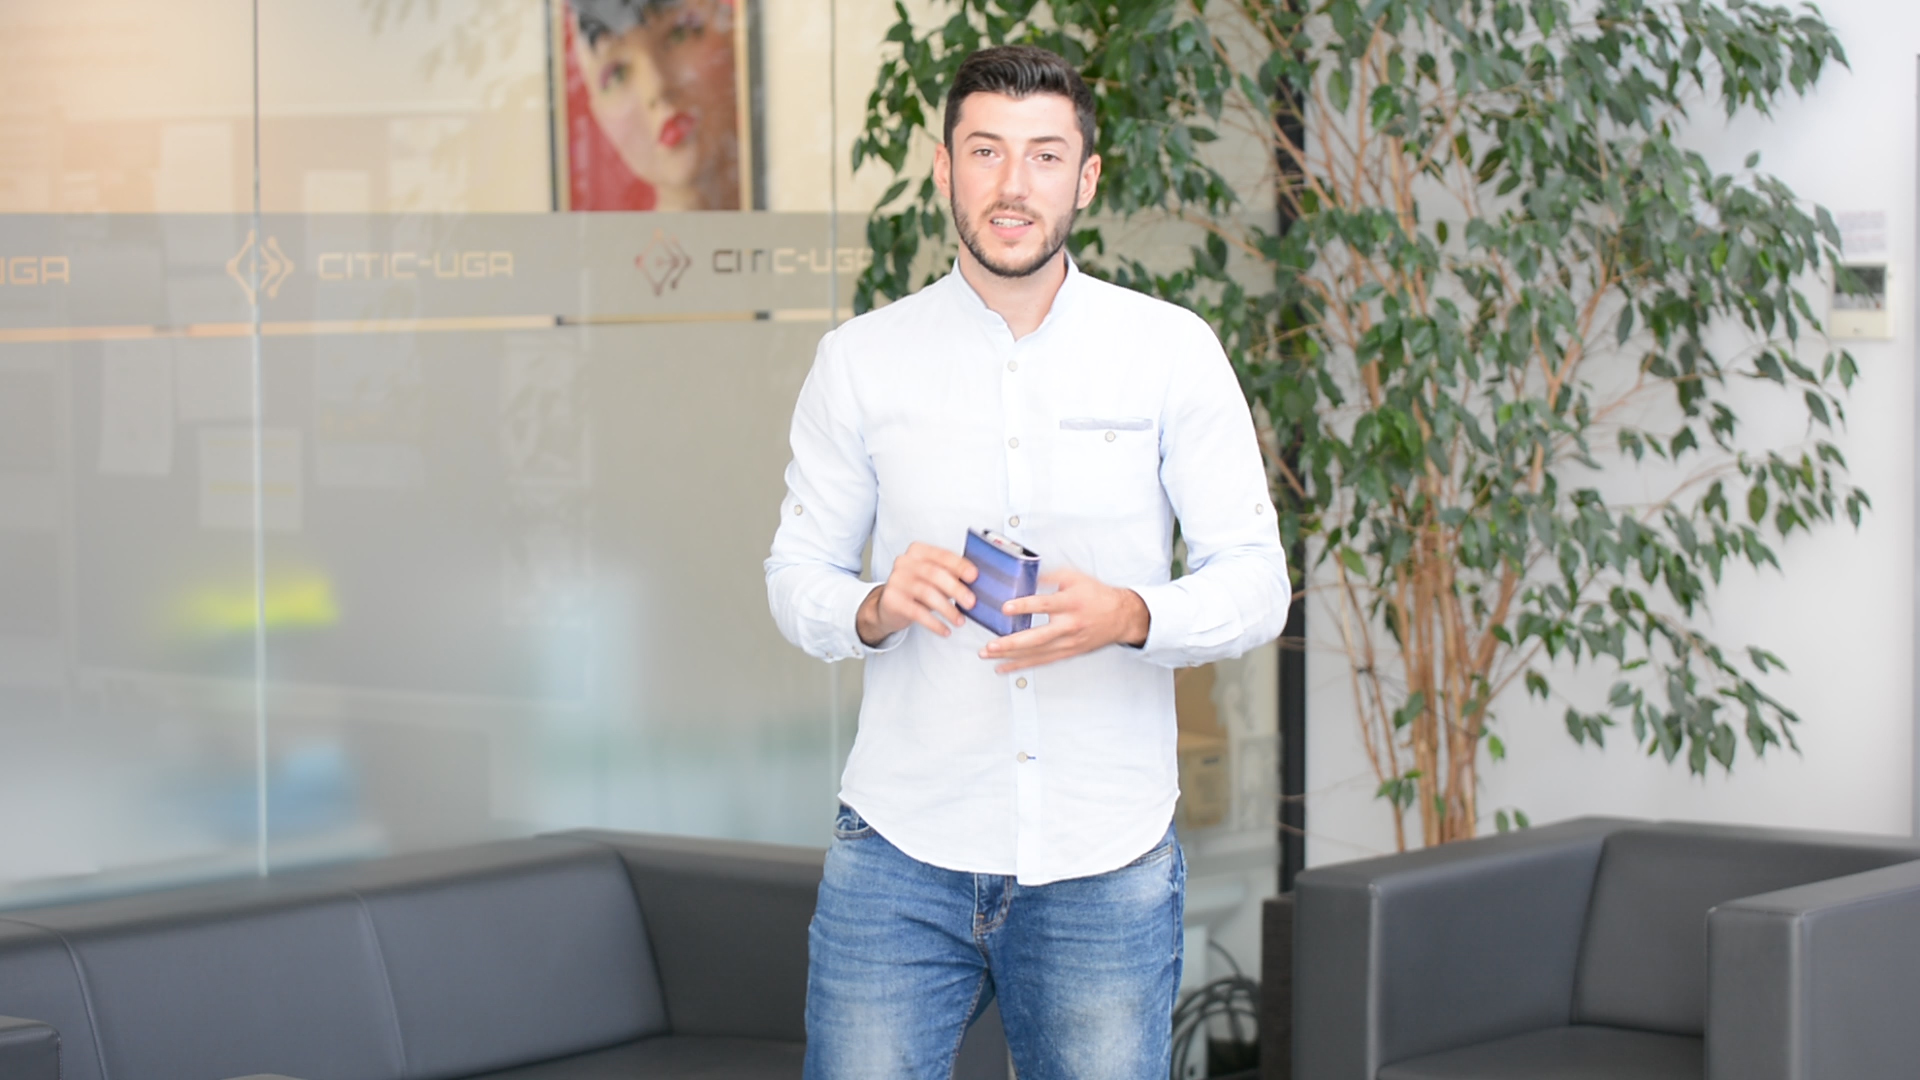monedero: (952, 527, 1040, 634)
